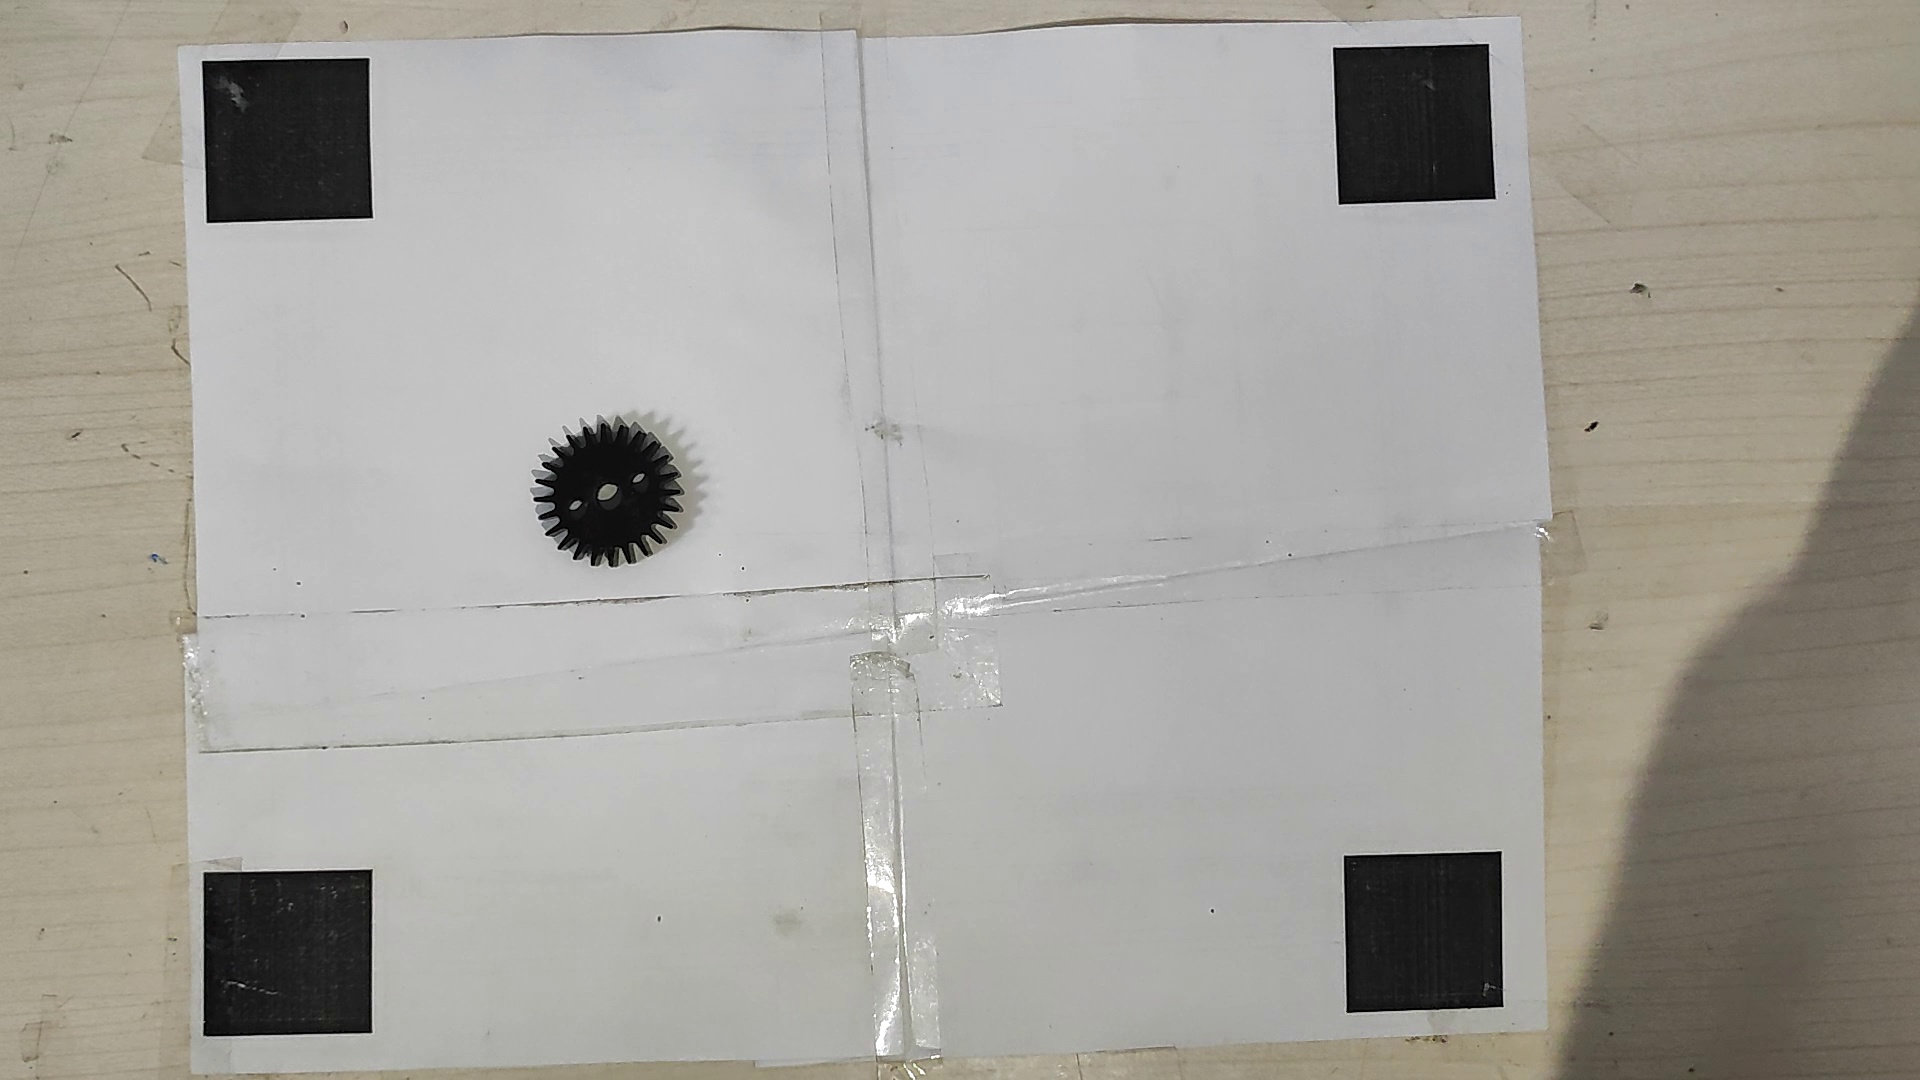Gear: (526, 418, 689, 569)
